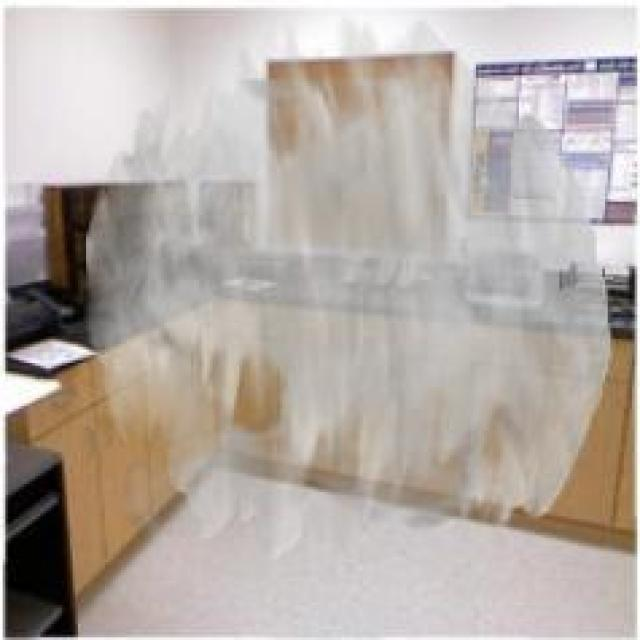fire: (84, 13, 610, 562)
